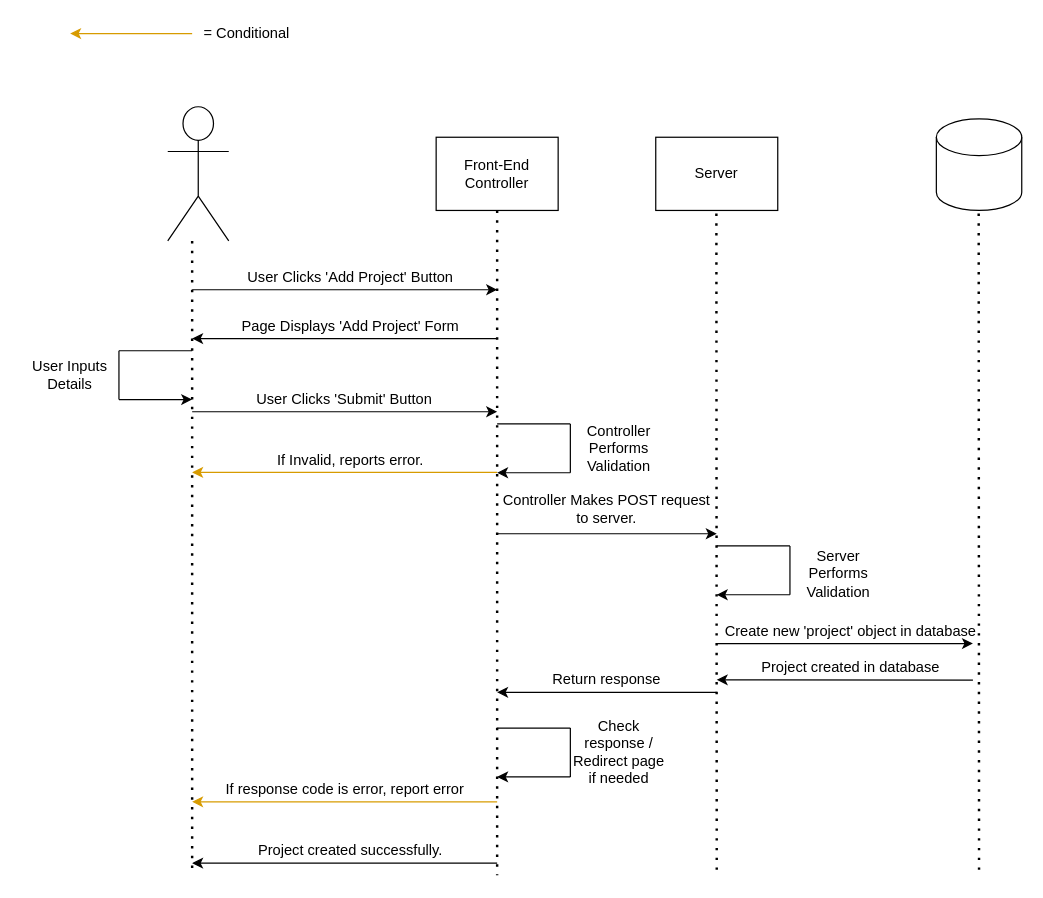
Some shapes in this 1043 by 898 pixel diagram are drawn without their labels. Each missing label, with the centre of its shape:
"Actor" belongs at (198,173).
"Database" belongs at (978,164).
